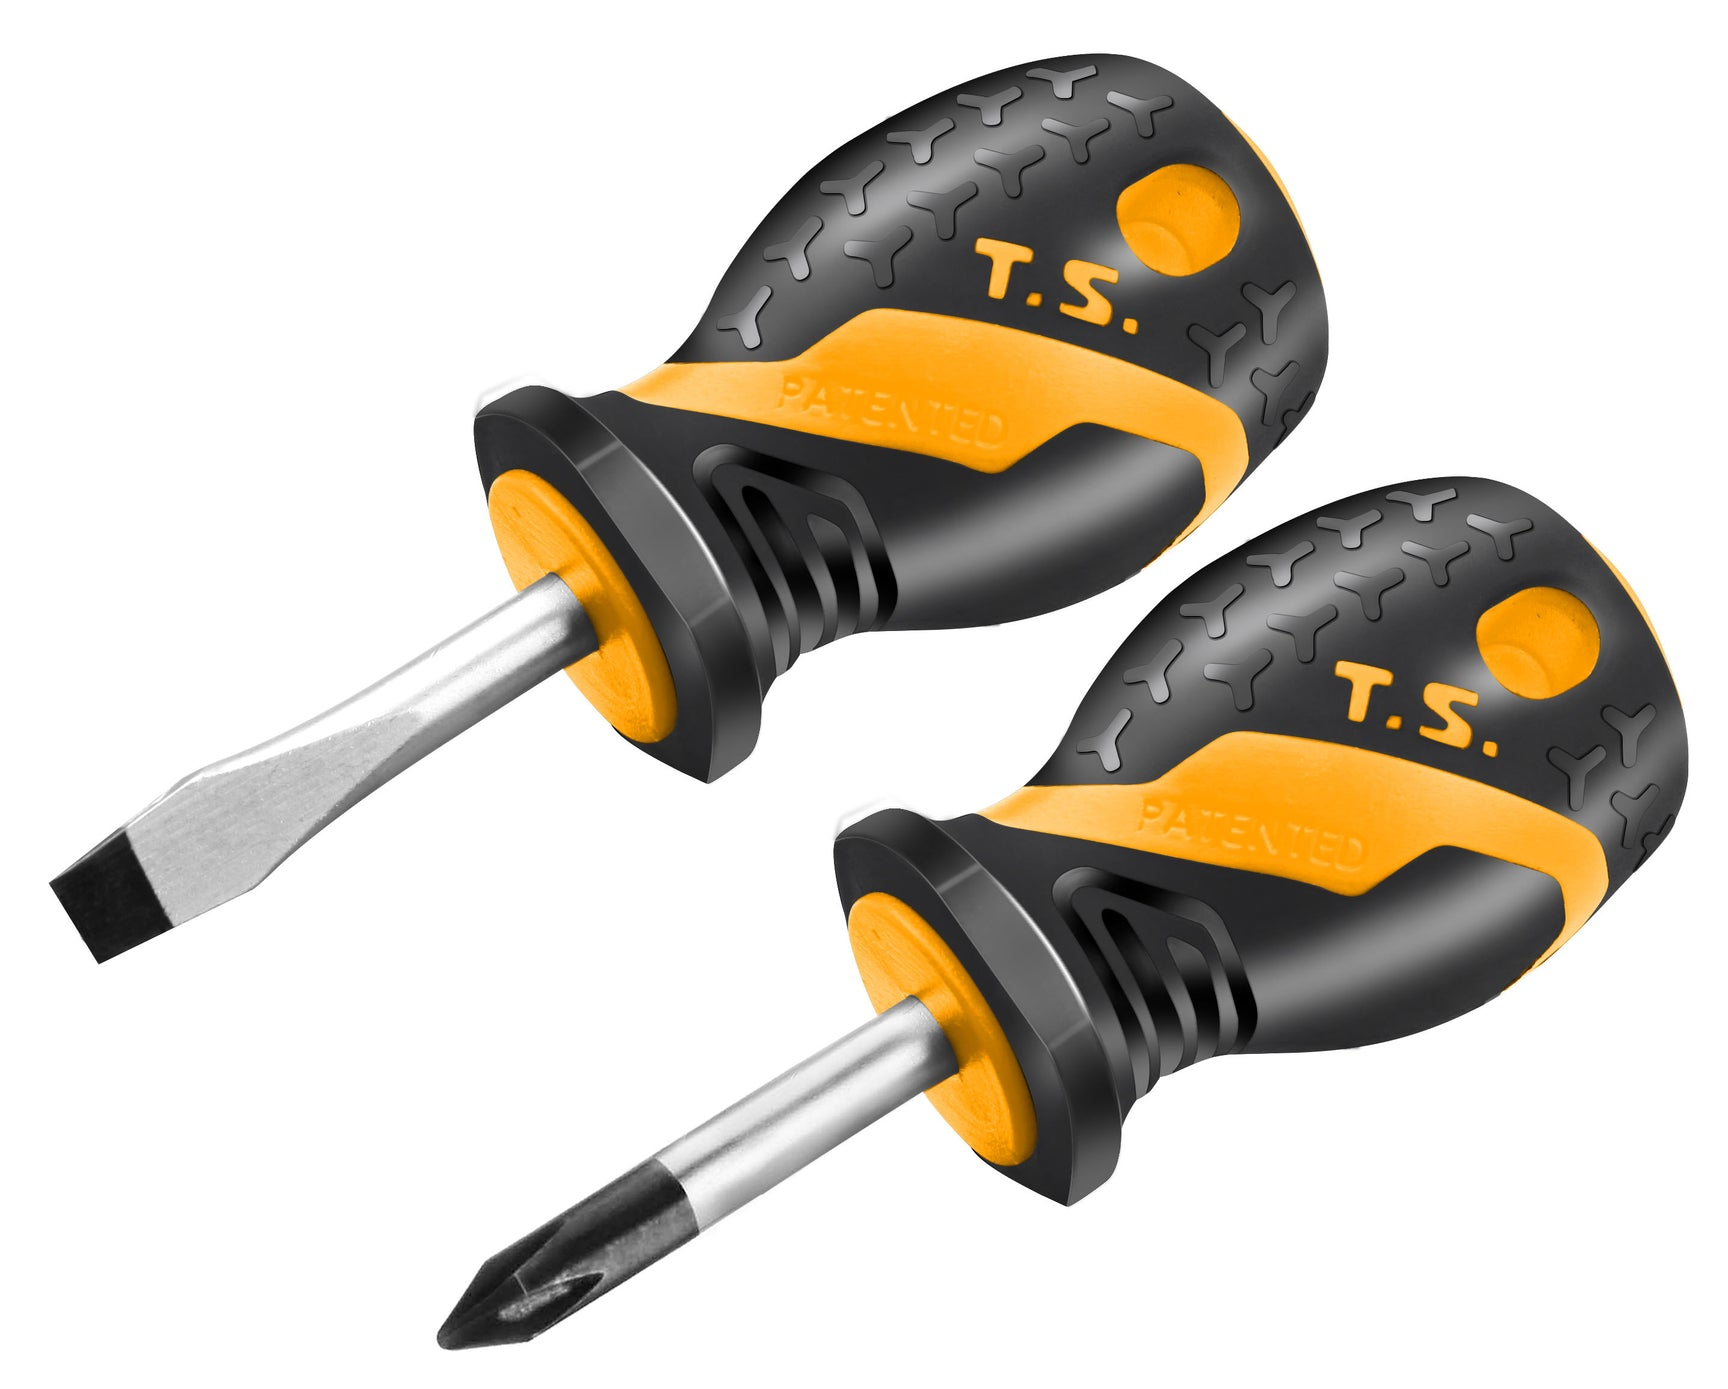screwdriver: (50, 40, 1340, 974), (431, 473, 1695, 1362)
